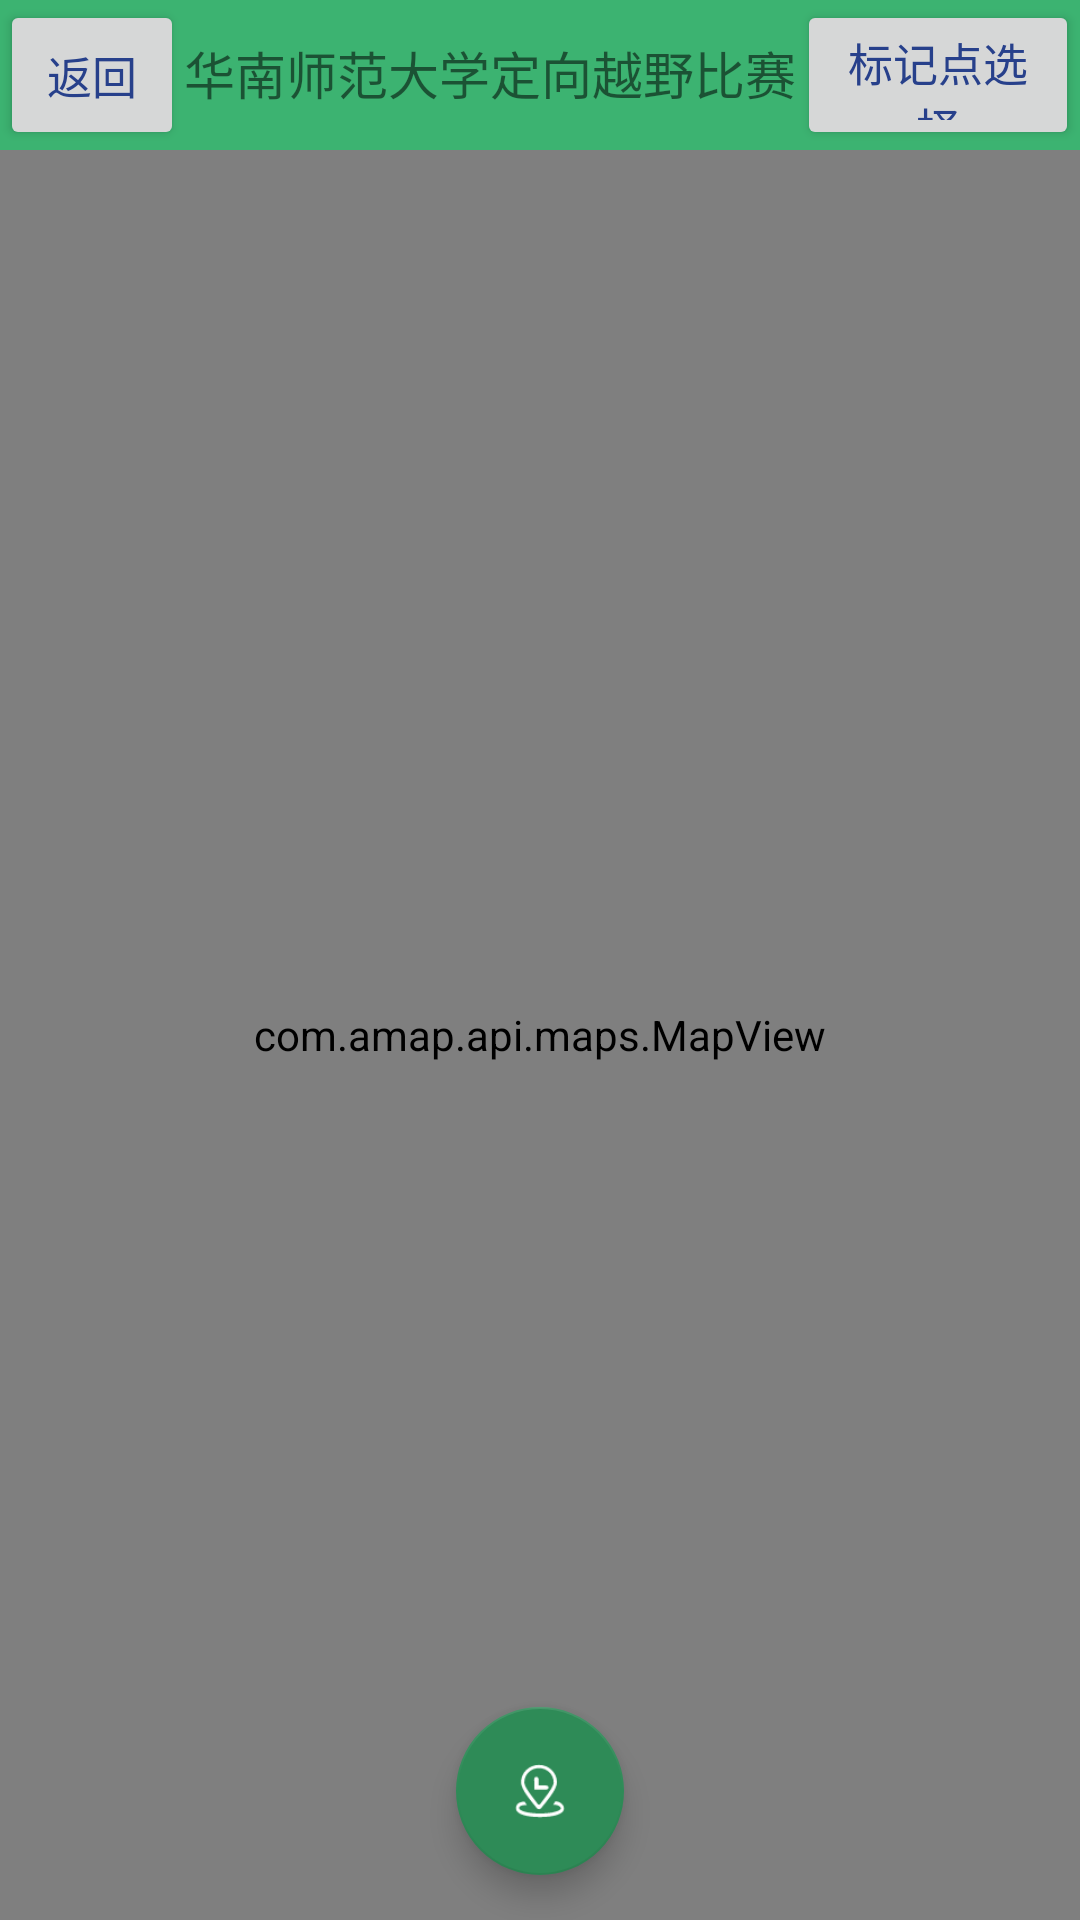

Point at icon controls on the screen. Image size 1080px x 1920px, points as (x=x, y=y).
makepoint: (x=540, y=1791)
